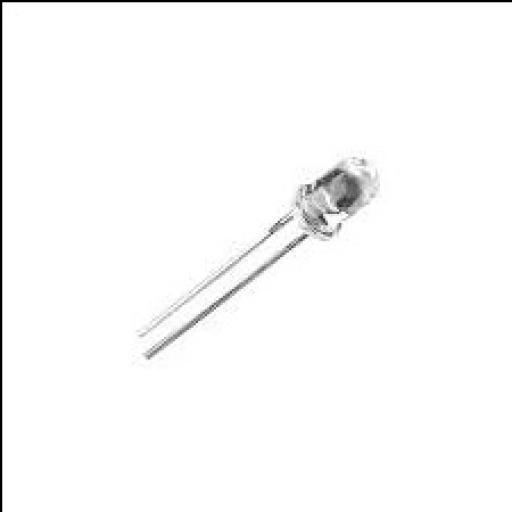LED: (134, 152, 380, 360)
